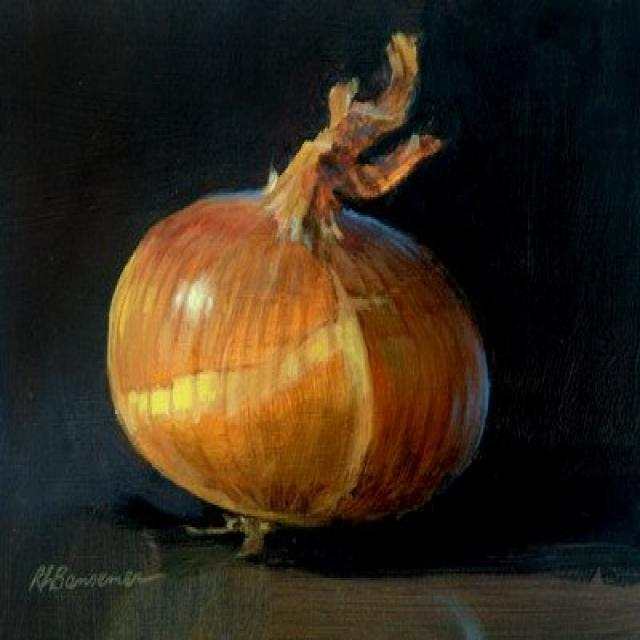onion: (102, 131, 494, 529)
